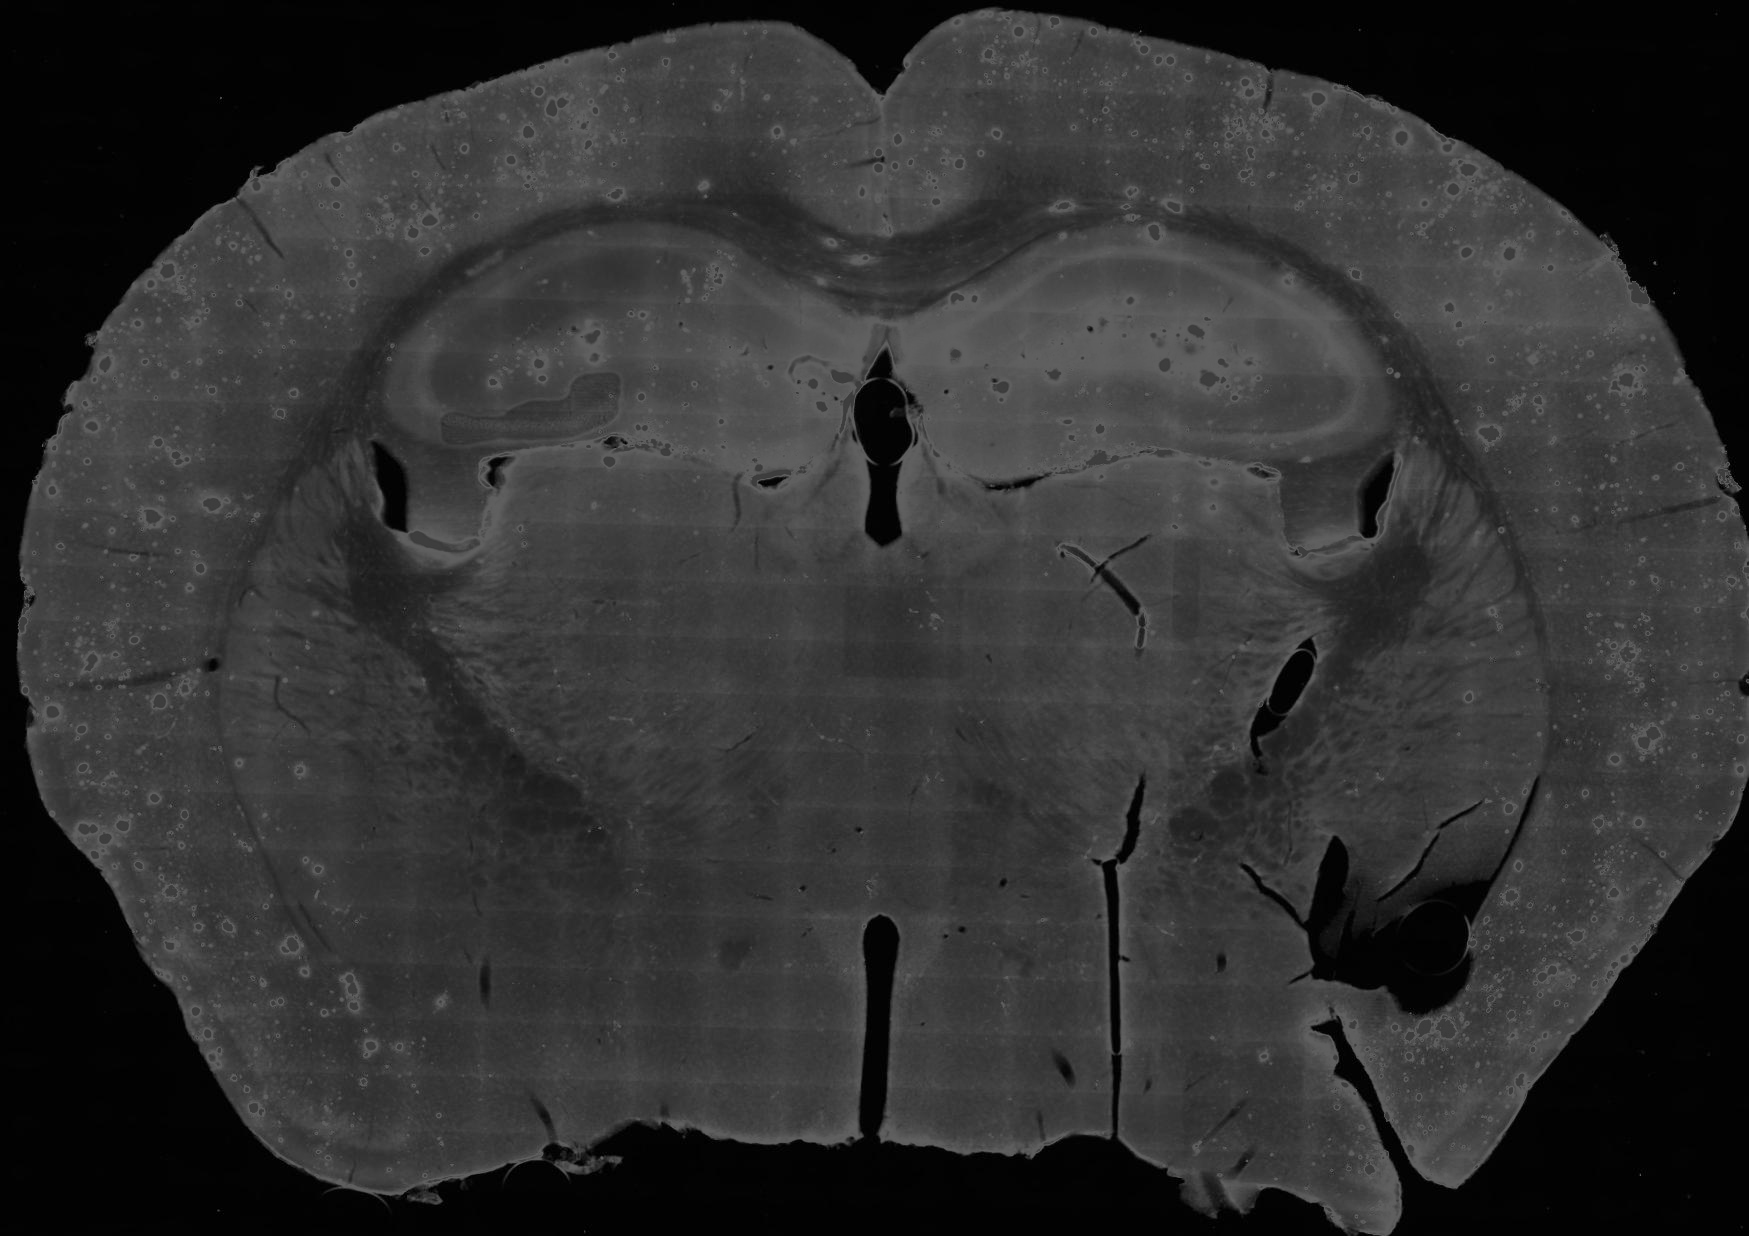Cerebral nuclei: (217, 433, 481, 985), (1356, 437, 1551, 884)
Hippocampal formation: (382, 221, 887, 480), (885, 225, 1392, 482)
Hypothalamus: (501, 784, 880, 1146), (872, 792, 1175, 1162)
Retrosplenial area: (881, 33, 984, 238), (784, 43, 889, 239)
Somatosensory area: (1209, 64, 1736, 538), (78, 67, 572, 453)
Thalamus: (879, 421, 1347, 821), (425, 424, 881, 805)
